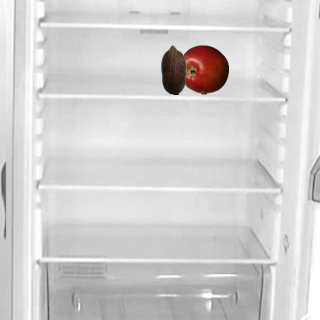Apple Braeburn: (178, 44, 228, 94)
Nut Pecan: (148, 44, 198, 94)
